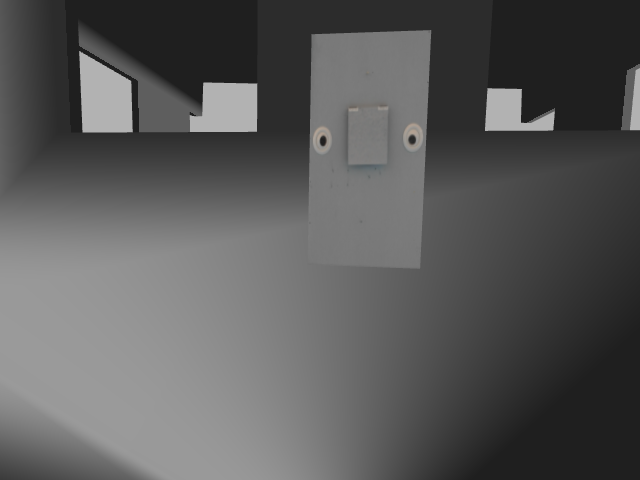facade: (312, 104, 423, 165)
